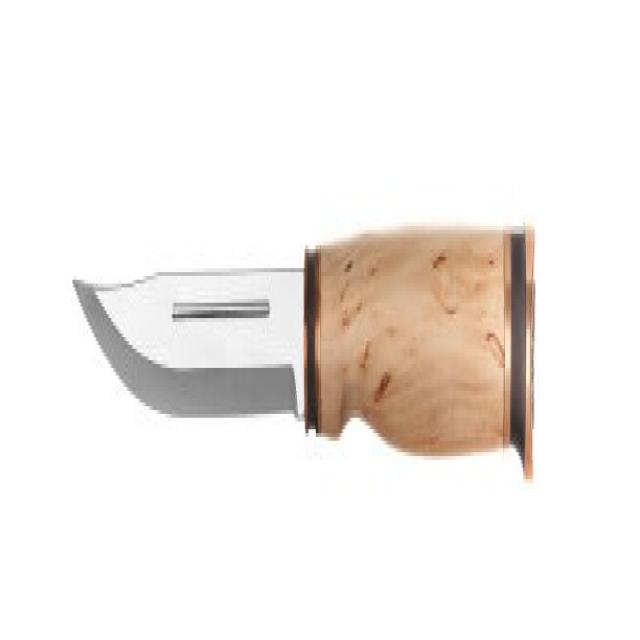knife: (72, 219, 544, 496)
